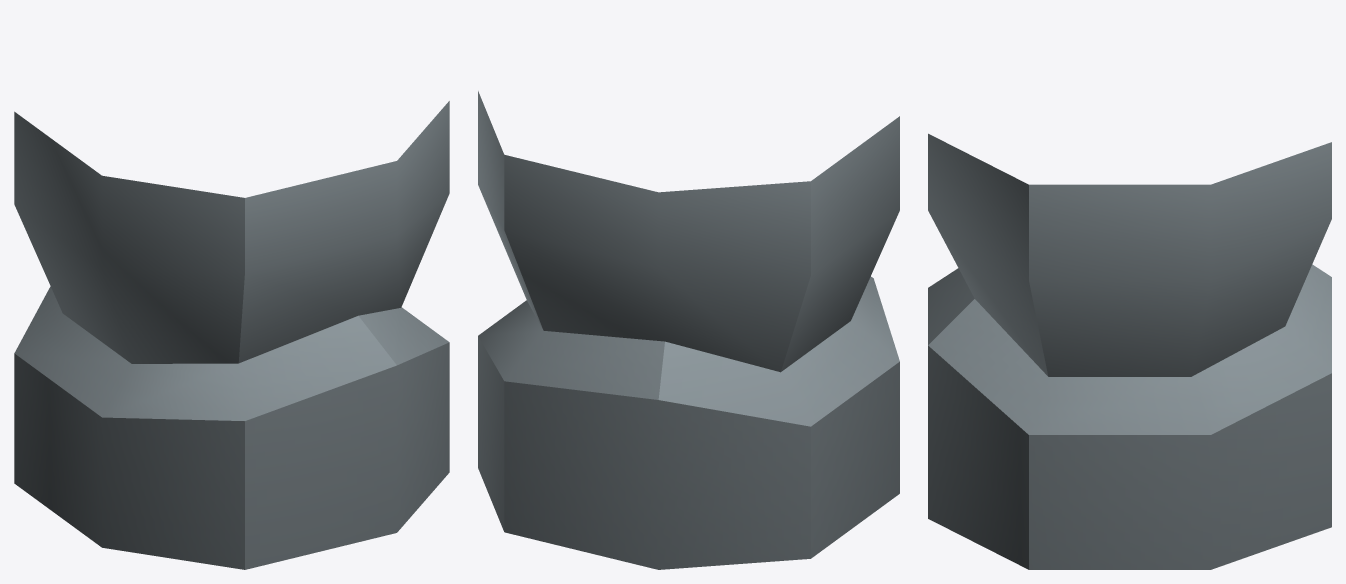
The model's file is Hill_Cliff_E_Color1.gltf.
3 renders of one model, left to right at view 1: azimuth 30°, elevation 25°; view 2: azimuth 150°, elevation 25°; view 3: azimuth 270°, elevation 25°, orthographic. The views are drawn at different scales.
Parts seen in each view (by area): view 1: Hill_Cliff_E_Color1; view 2: Hill_Cliff_E_Color1; view 3: Hill_Cliff_E_Color1.
Part boxes in pixels (x1,y1,x2,y2): Hill_Cliff_E_Color1: [14, 101, 449, 569]; Hill_Cliff_E_Color1: [478, 91, 899, 569]; Hill_Cliff_E_Color1: [928, 133, 1331, 569].
Bounding box in the file's own units: 1.9 × 2 × 1.9.
1 material, 1 textured.
